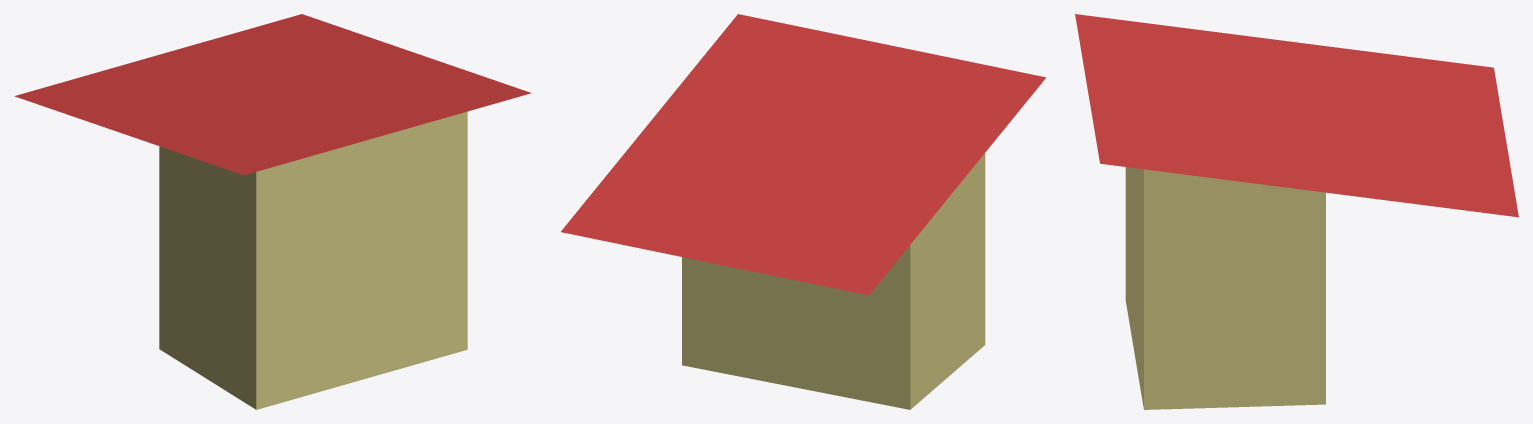
The picture shows the model from 3 angles, left to right: view 1: azimuth 30°, elevation 25°; view 2: azimuth 150°, elevation 25°; view 3: azimuth 270°, elevation 25°; orthographic projection. The views are drawn at different scales.
Size of the model in its own units: 8.1 by 9.37 by 6.23.
